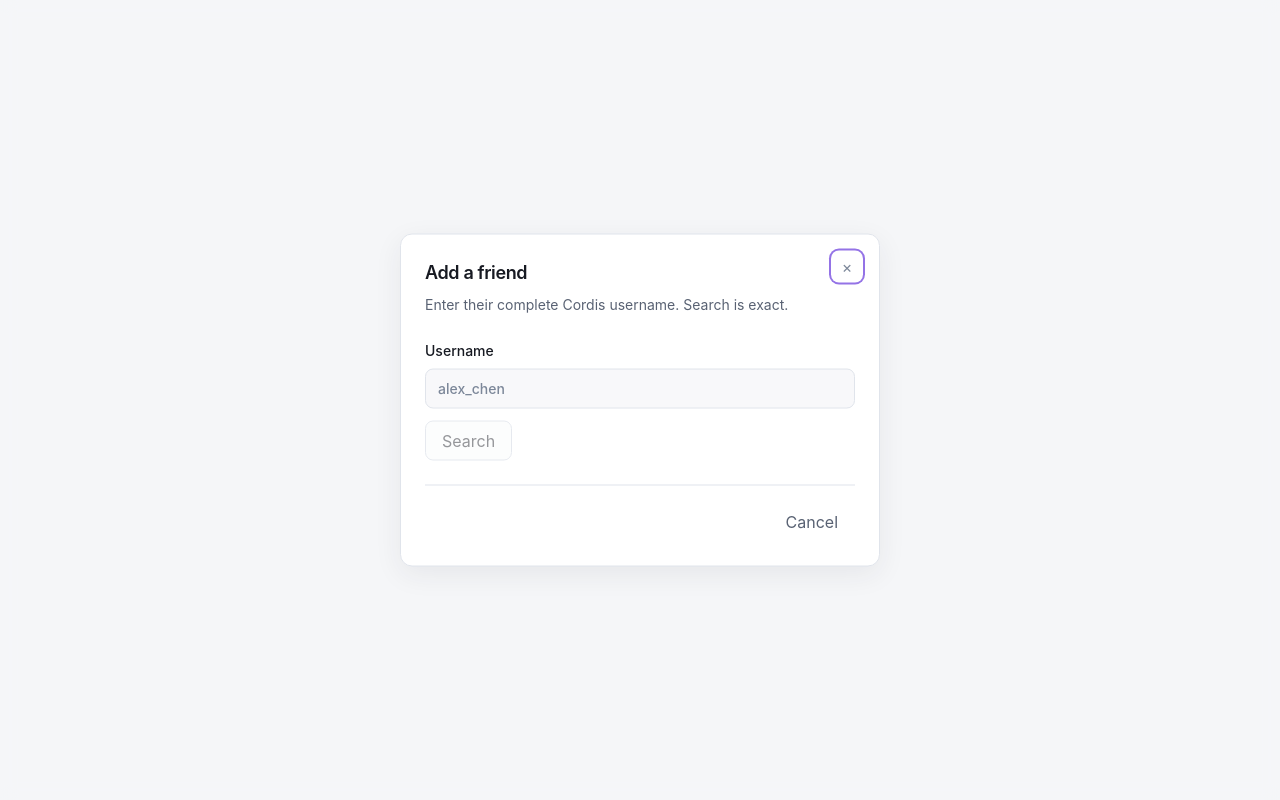
Test: AddFriendDialog › looks up an exact username and sends a friend request
Type "  alex  " into the field labelled "Username" at [640, 388], box [425,368,855,408]
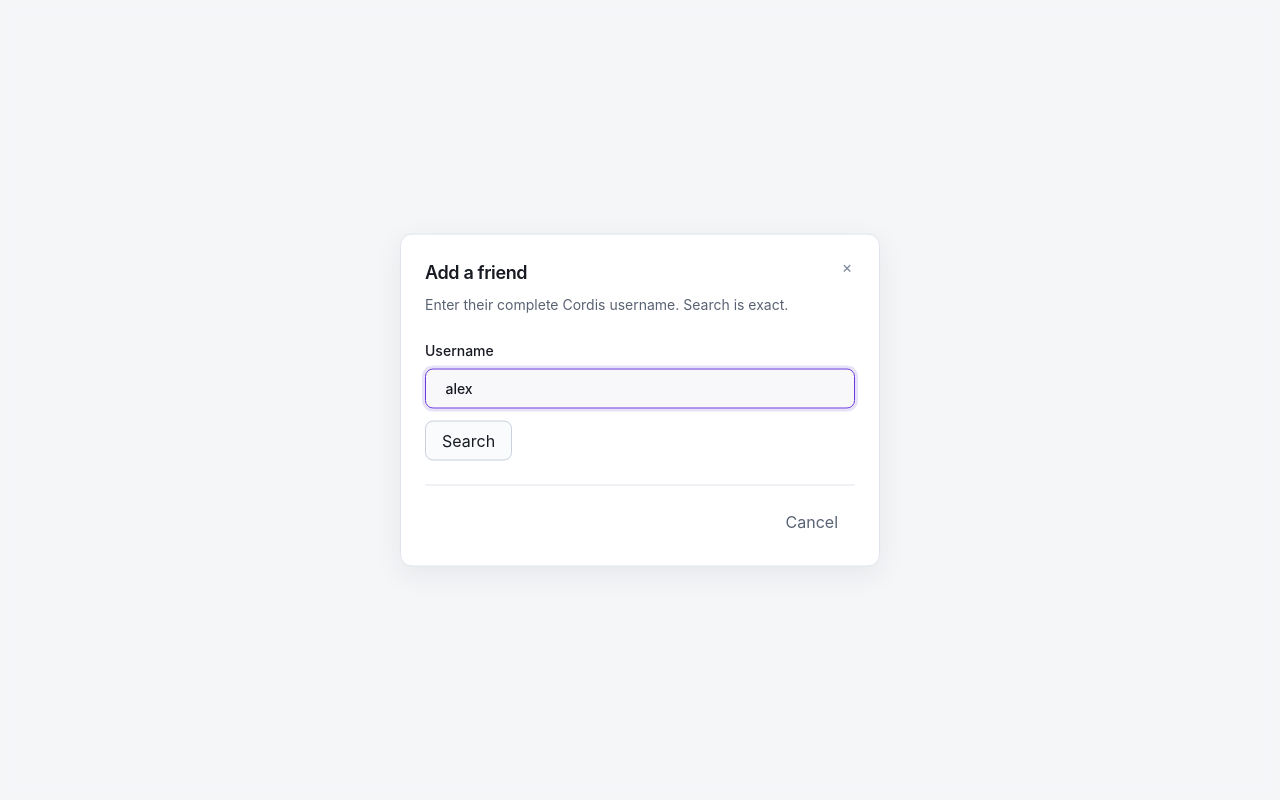
Click the button "Search" at [469, 440], box [425,420,512,460]
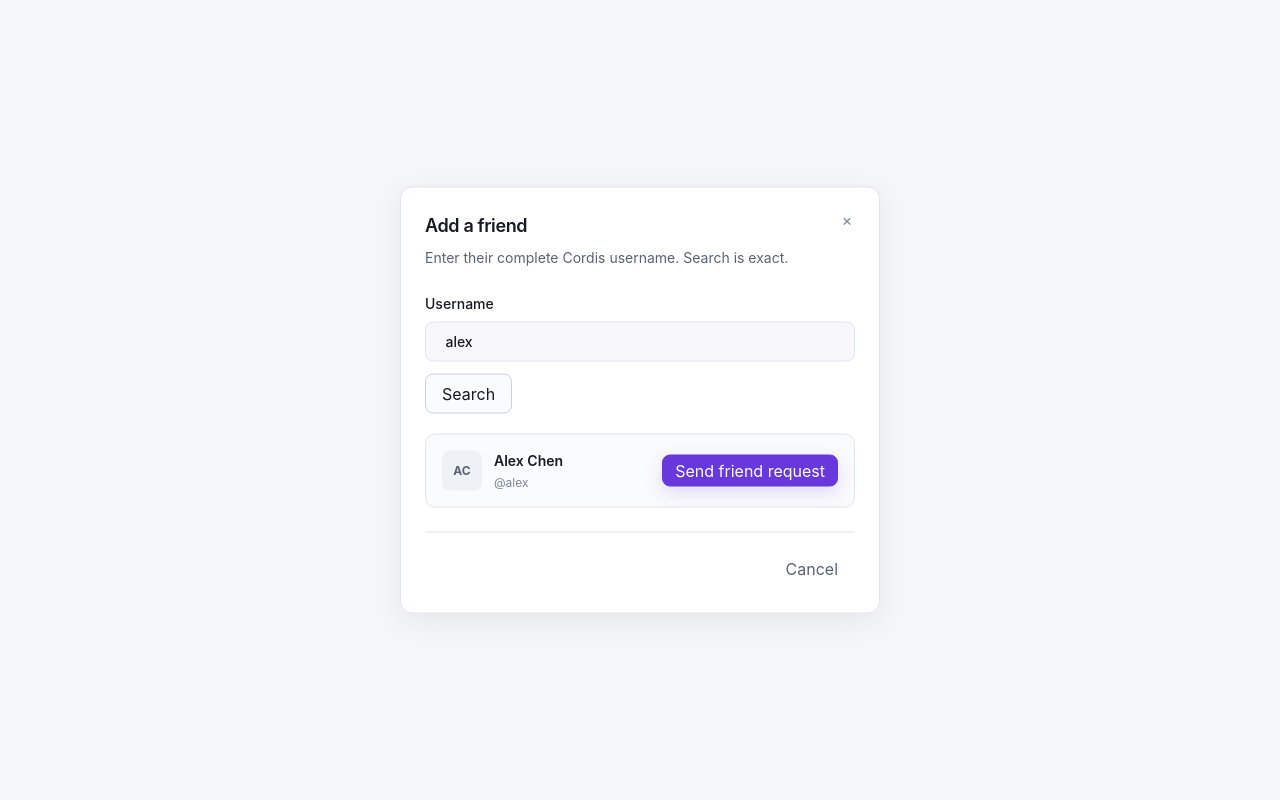
Expected: the text "Alex Chen" is shown, [494,452,563,468]
Click the button "Send friend request" at [750, 470], box [662,454,838,486]
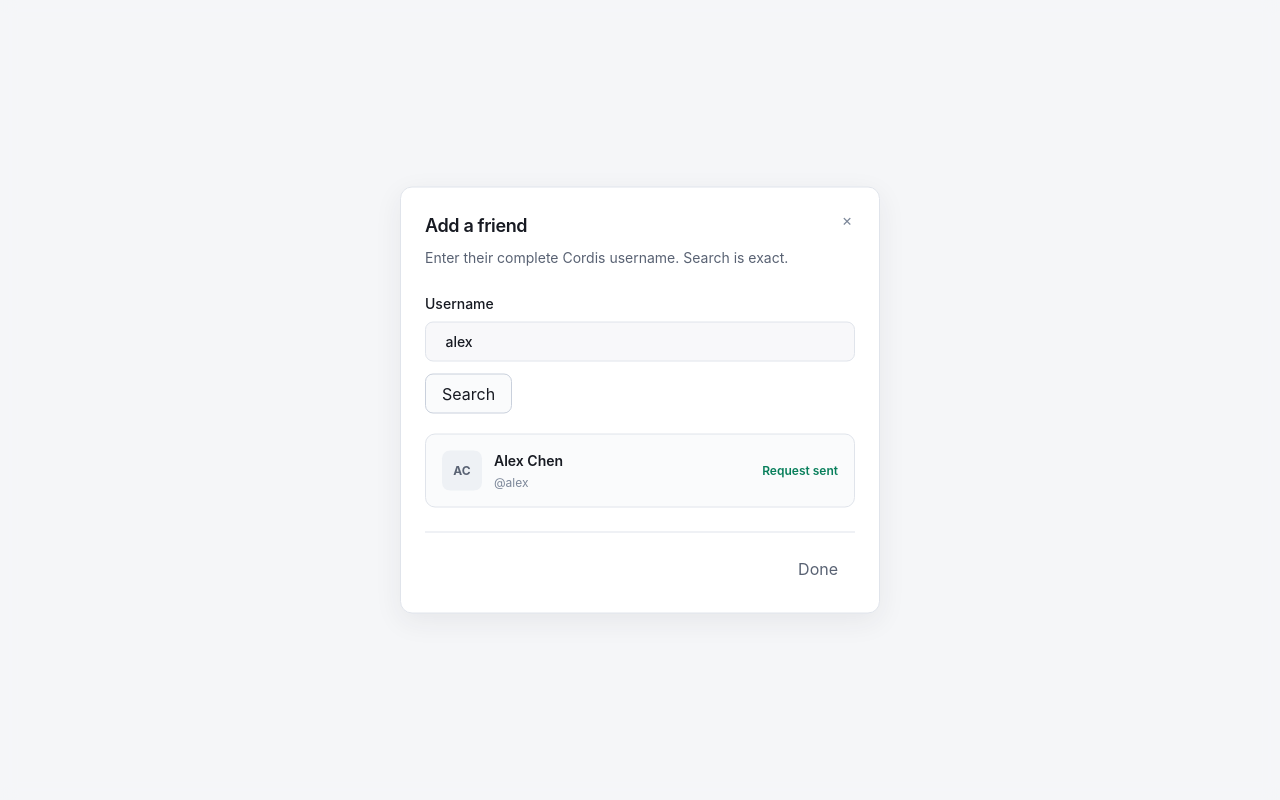
Expected: the message reads "Request sent", [762,462,838,478]
